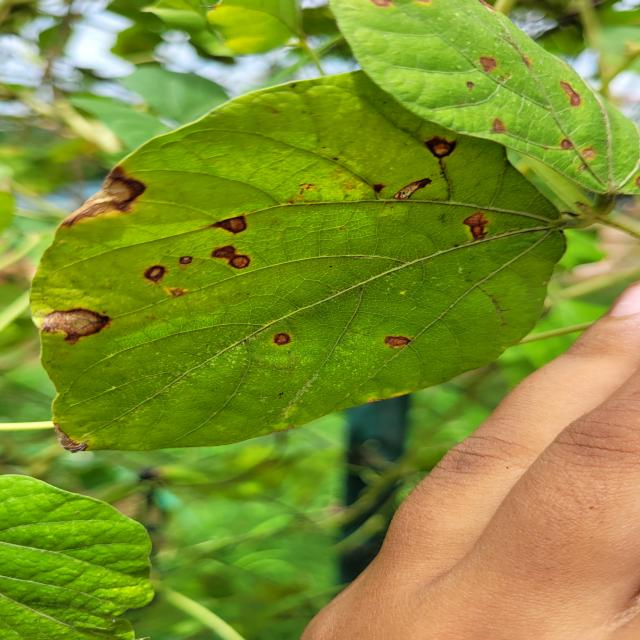Dolicos bean_cercospora leaf spot: (33, 59, 580, 452), (308, 0, 640, 206)
